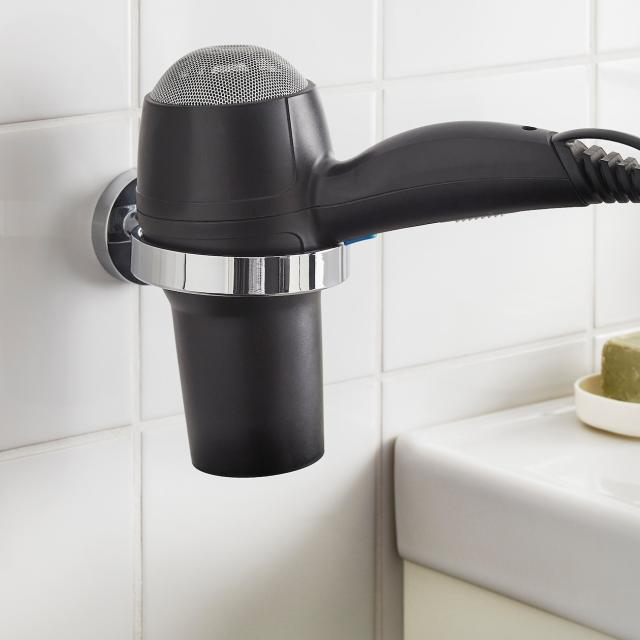dryer: (113, 6, 640, 494)
